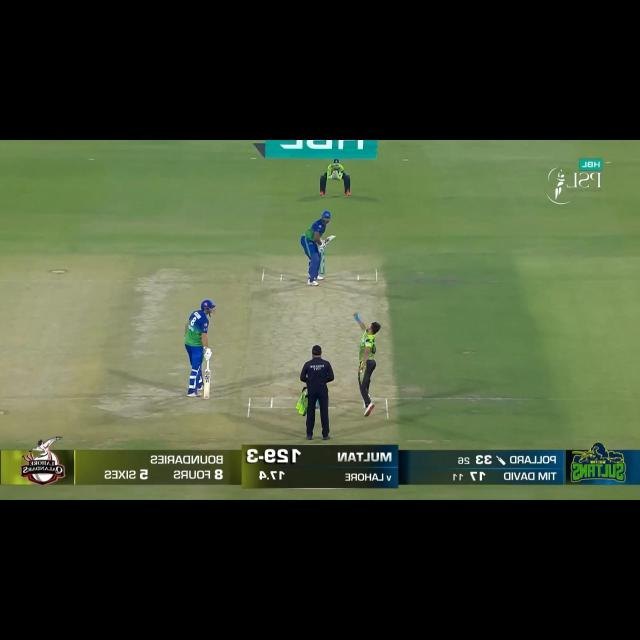bat: (318, 233, 339, 248), (202, 370, 212, 398)
toe: (201, 388, 213, 401), (328, 234, 338, 240)
